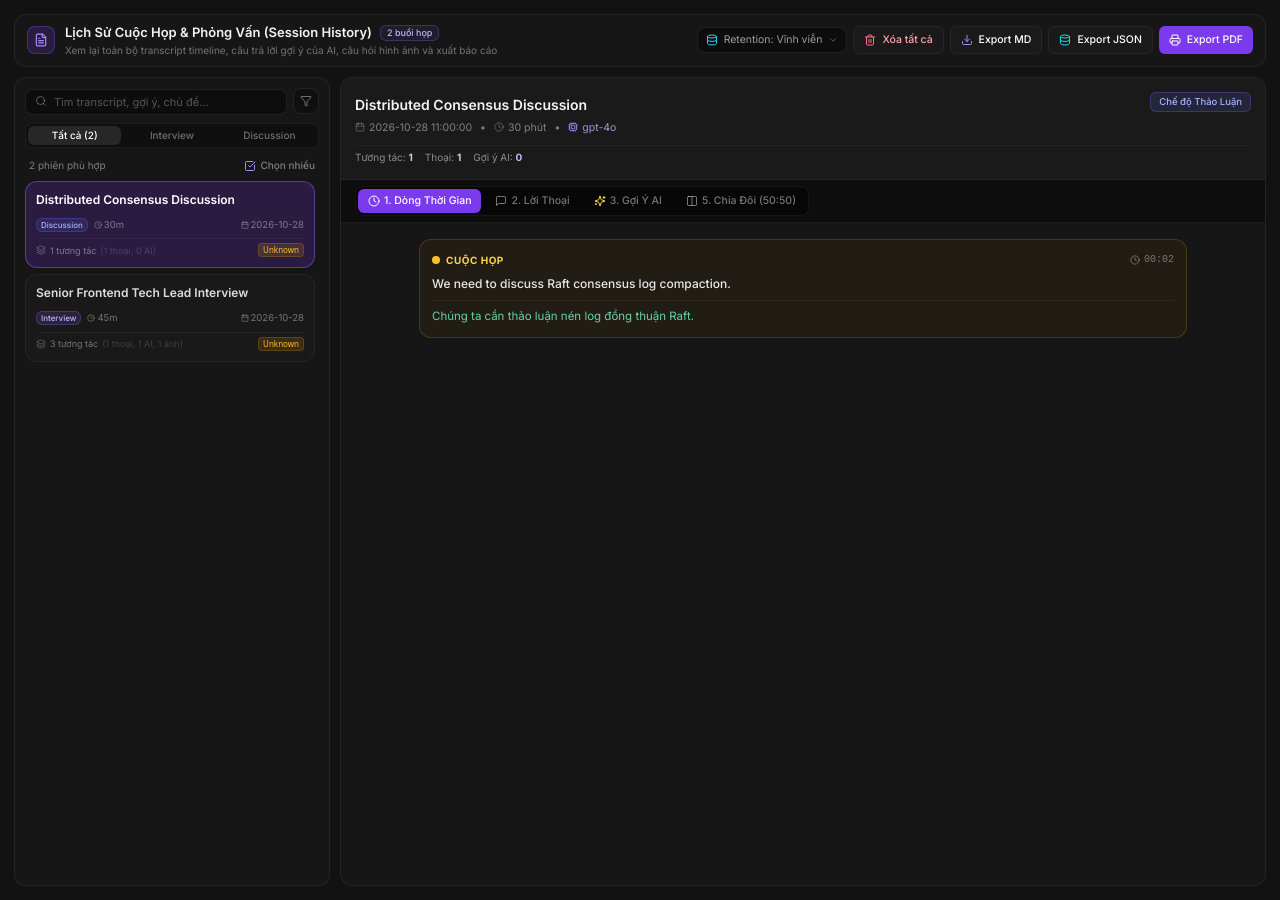
Test: SessionHistory Screen Smoke Tests › switches selected session when clicking a sidebar card
The image size is (1280, 900).
Note: Click sess-alpha (Senior Frontend Interview)
Click the text "Senior Frontend Tech Lead Interview": [142, 294] box [36,285,248,302]
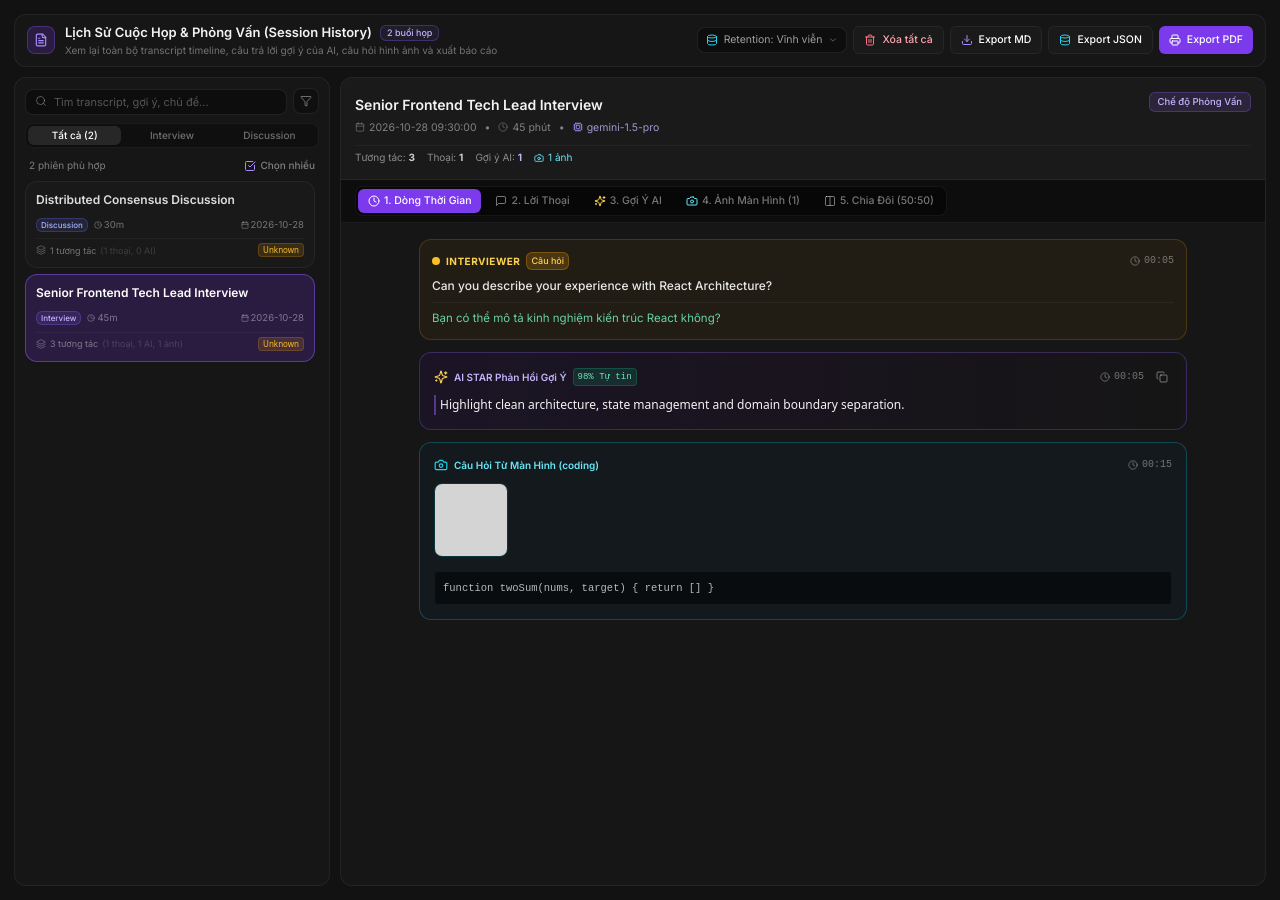
Expected: the text "Chế độ Phỏng Vấn" is shown, [1148,92,1251,112]
